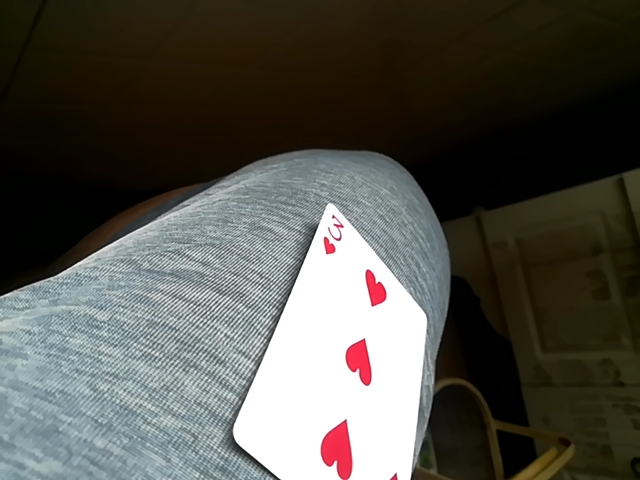hx 3: (236, 202, 429, 479)
